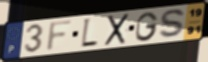3: (23, 23, 45, 55)
F: (44, 18, 75, 53)
G: (134, 11, 160, 43)
L: (80, 17, 100, 50)
S: (157, 8, 188, 40)
X: (103, 12, 131, 48)
